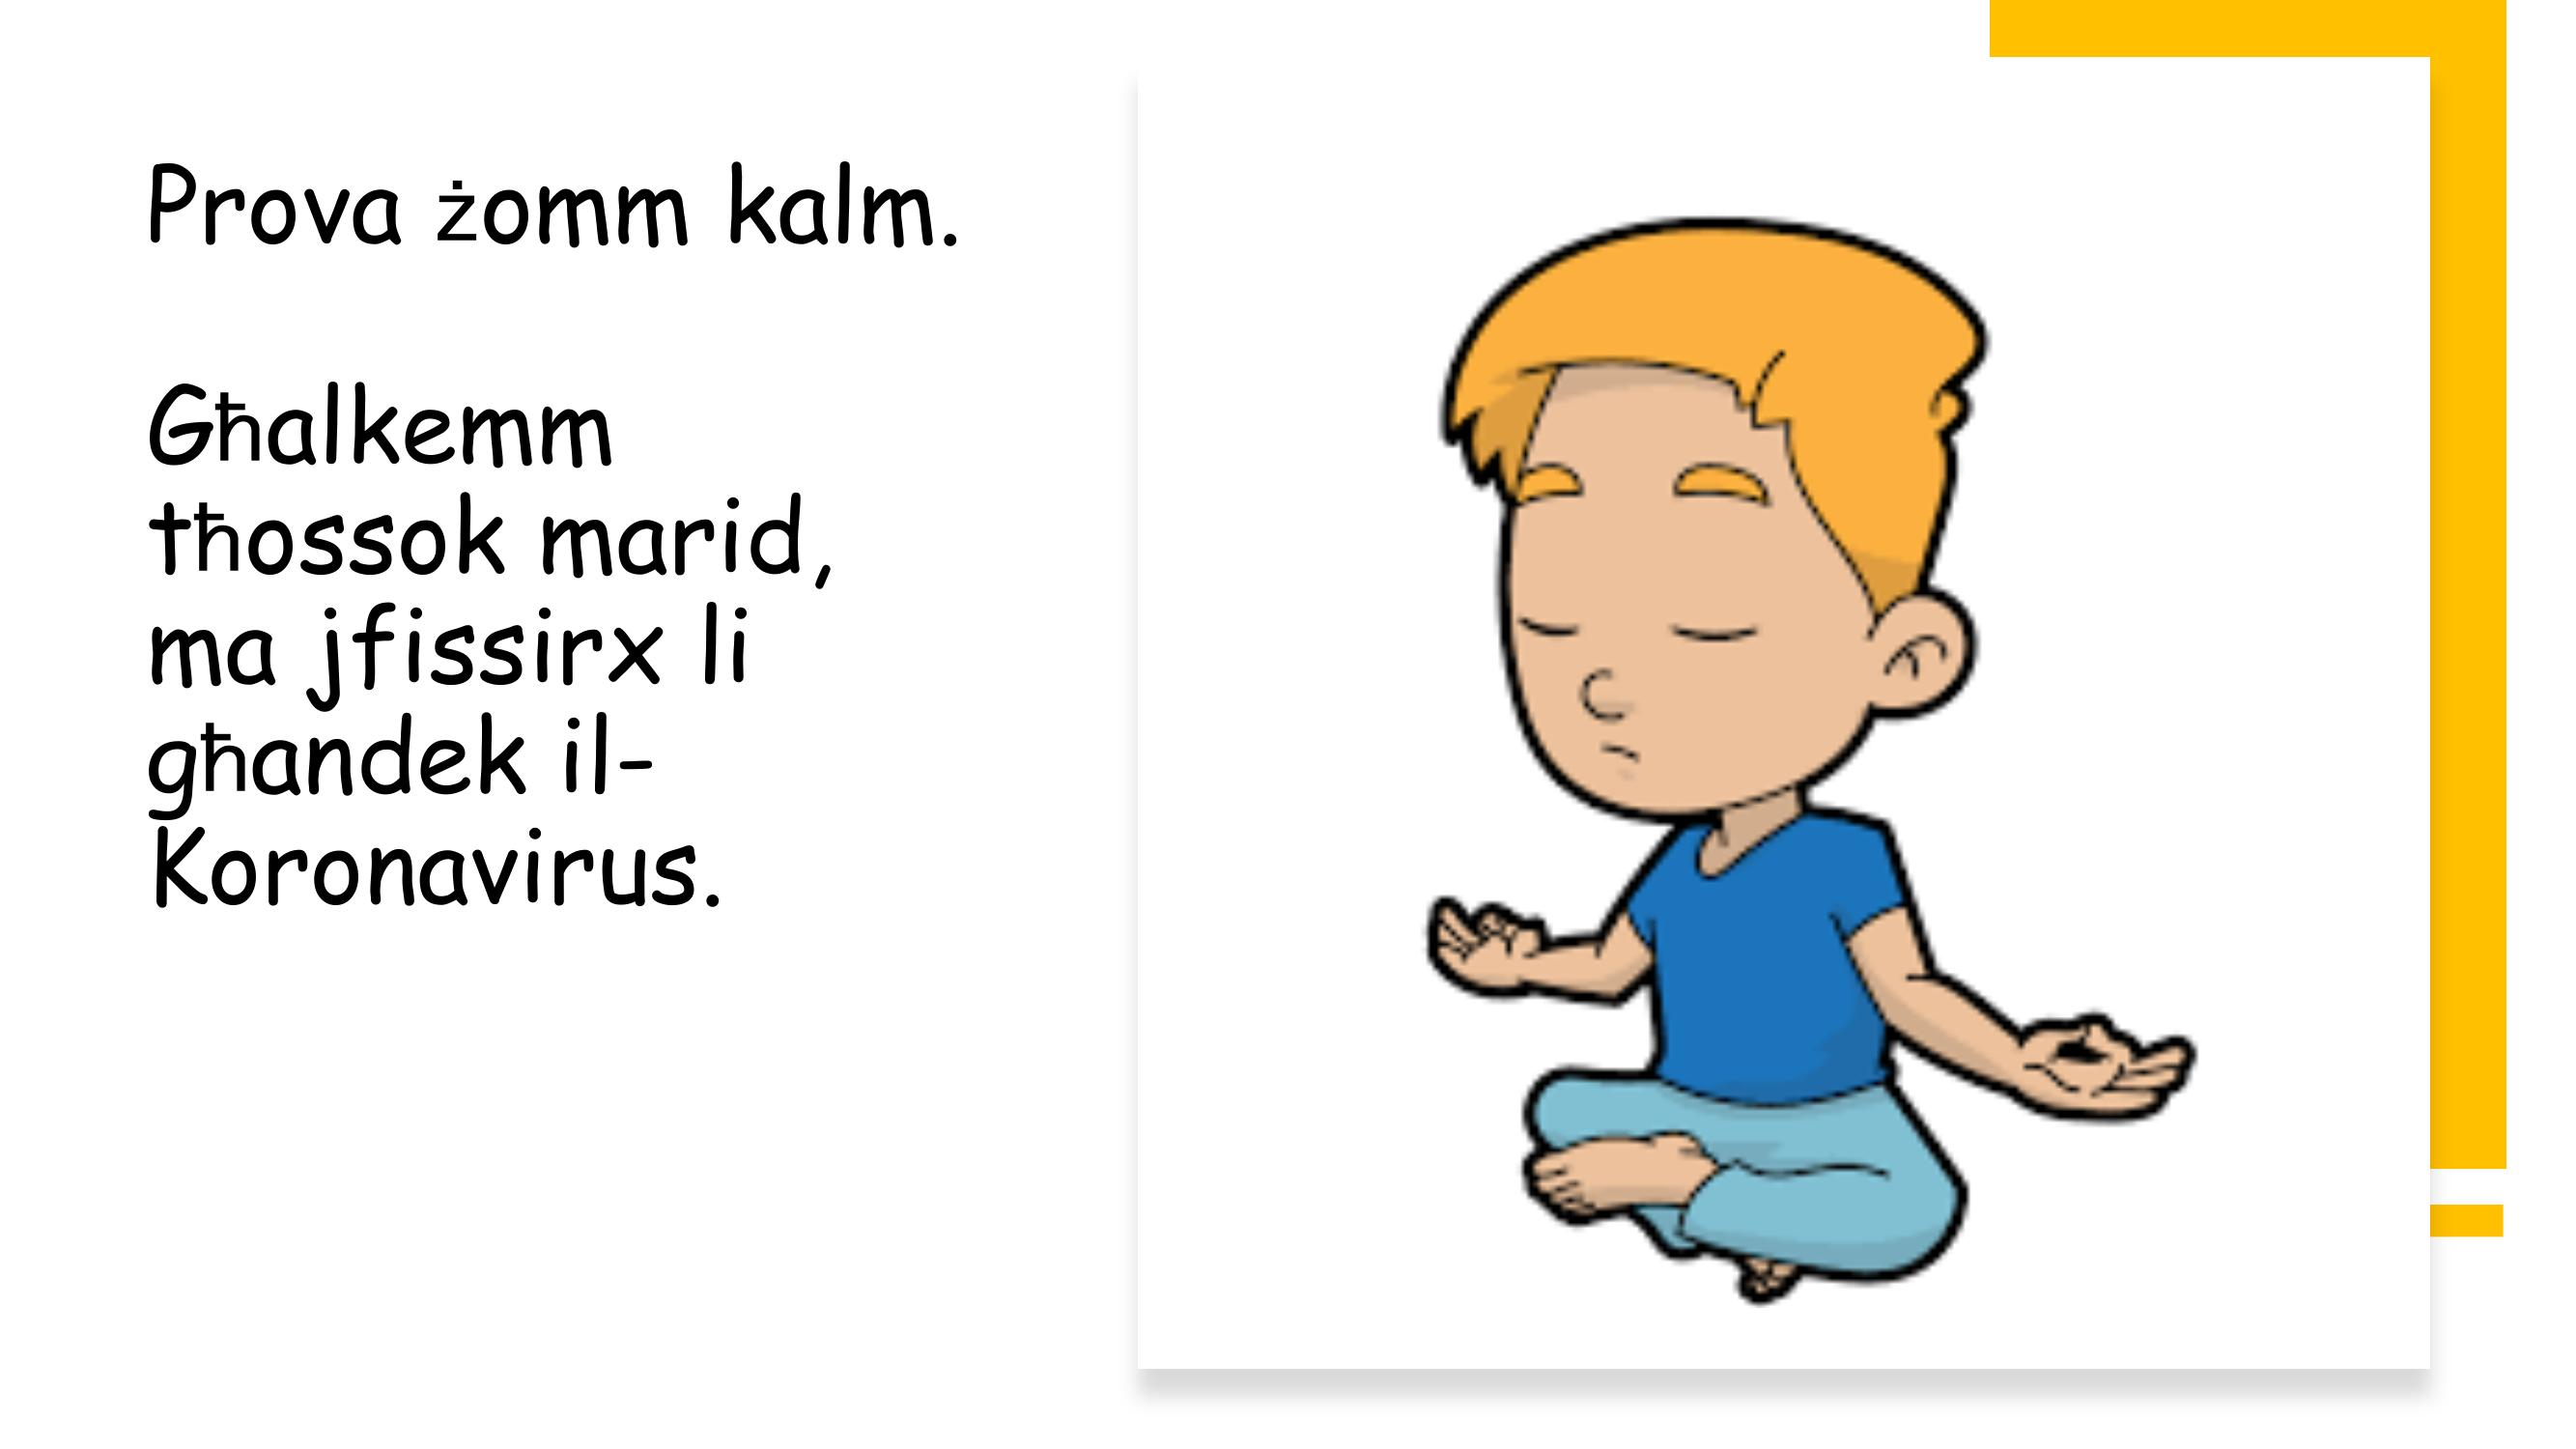text: (101, 142, 982, 957)
